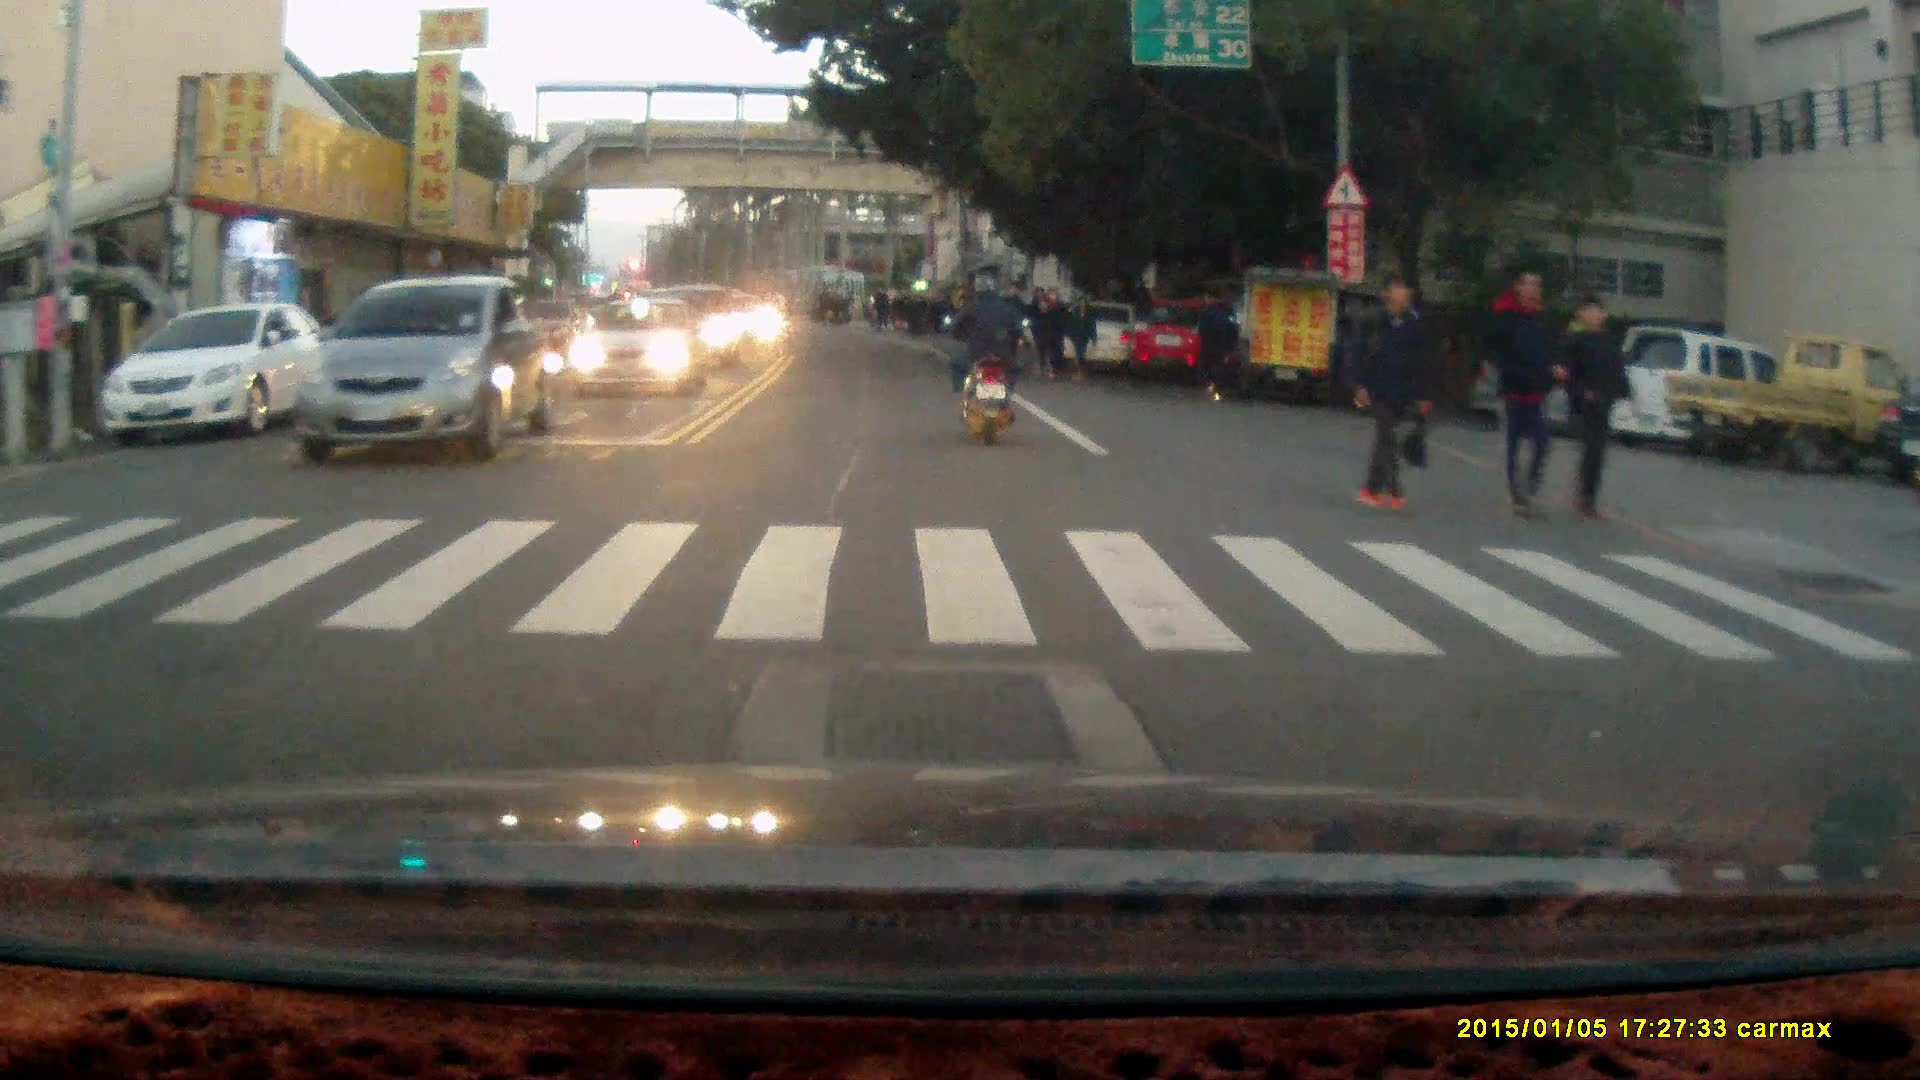pedestrian: (1486, 261, 1570, 525), (1346, 272, 1438, 516), (1555, 293, 1630, 526), (1191, 284, 1238, 407), (1026, 286, 1056, 381), (1068, 292, 1099, 379)
rider: (940, 270, 1026, 447)
vehicle: (297, 277, 560, 461), (1658, 336, 1915, 468), (99, 300, 331, 441), (567, 297, 704, 398), (1124, 297, 1247, 387)
